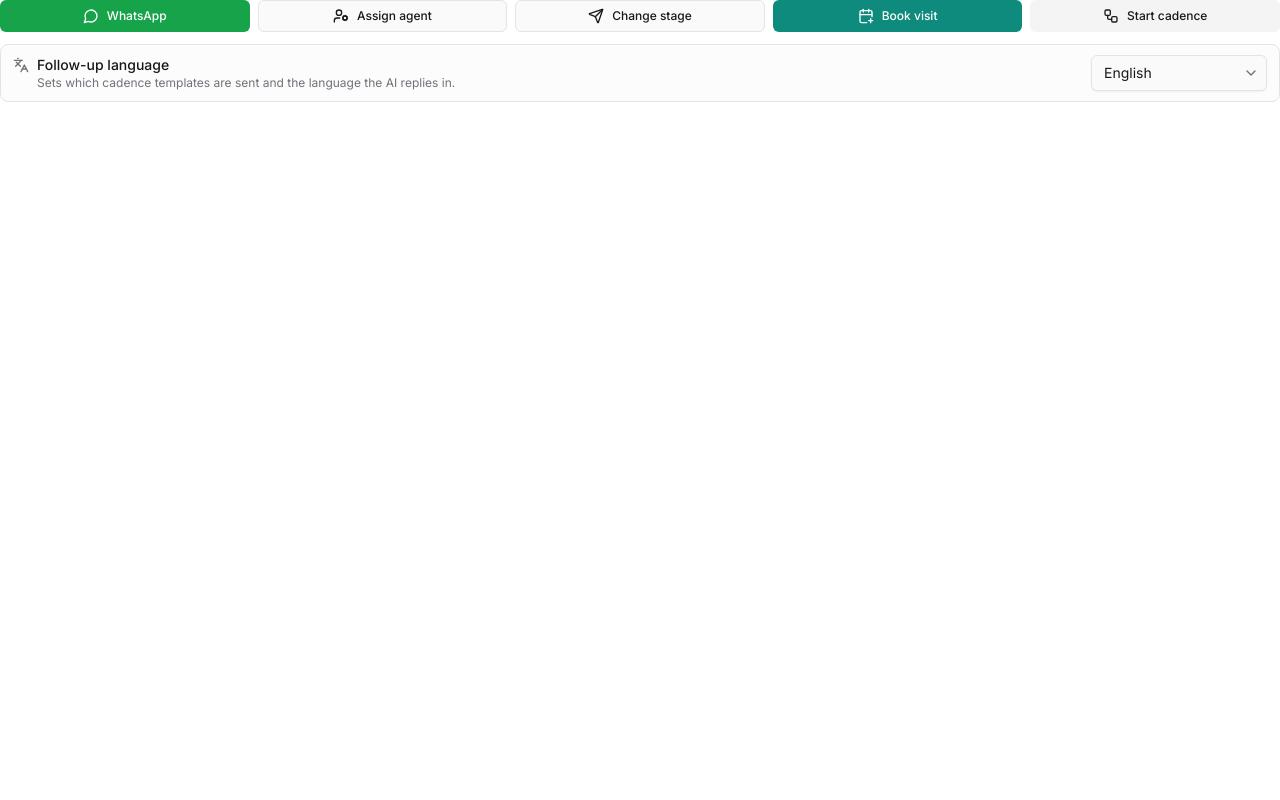
Test: assign agent › survives the team request returning nothing
Click the button "Assign agent": [382, 16] box [258,0,507,32]
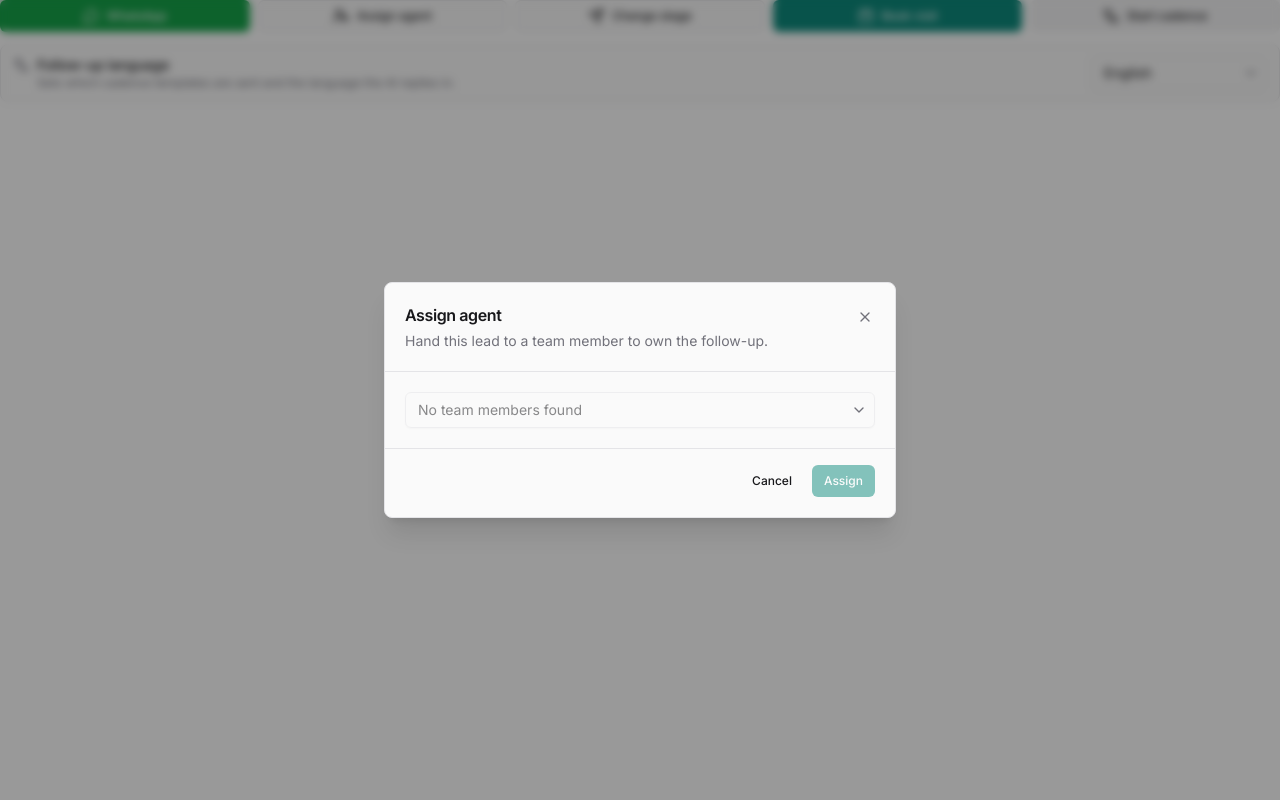
Check: the dialog is shown, box [384,282,896,518]
